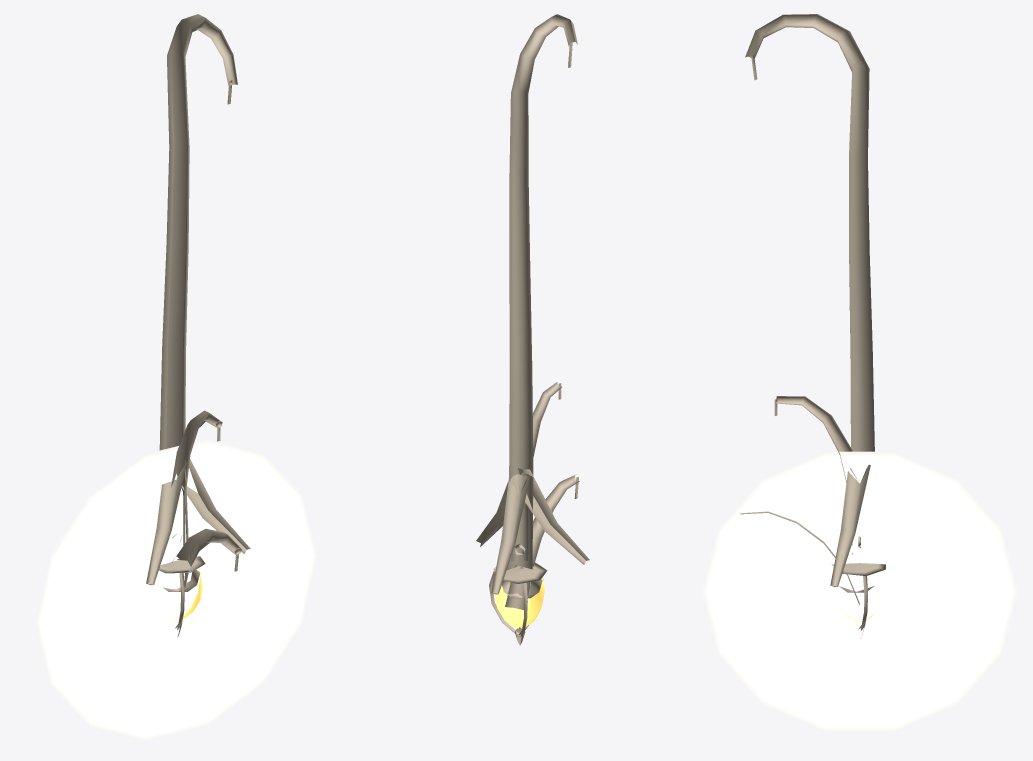
File: hw_lamps.glb
3 views of the same model, side by side, from view 1: azimuth 30°, elevation 25°; view 2: azimuth 150°, elevation 25°; view 3: azimuth 270°, elevation 25° (orthographic). The views are drawn at different scales.
Parts seen in each view (by area): view 1: halo, crook, wall_arm, rail_arm, lamp_wood; view 2: crook, wall_arm, lamp_wood, rail_arm, lamp_resin; view 3: halo, crook, rail_arm, lamp_wood.
Boxes of the visible parts, x1=… form: halo: x1=35, y1=439, x2=317, y2=741; crook: x1=146, y1=14, x2=250, y2=585; wall_arm: x1=163, y1=528, x2=241, y2=591; rail_arm: x1=171, y1=410, x2=222, y2=545; lamp_wood: x1=159, y1=534, x2=205, y2=637; crook: x1=476, y1=14, x2=589, y2=594; wall_arm: x1=502, y1=474, x2=579, y2=609; lamp_wood: x1=489, y1=544, x2=547, y2=645; rail_arm: x1=511, y1=382, x2=561, y2=561; lamp_resin: x1=495, y1=577, x2=544, y2=628; halo: x1=701, y1=451, x2=1018, y2=731; crook: x1=745, y1=14, x2=874, y2=587; rail_arm: x1=774, y1=396, x2=852, y2=554; lamp_wood: x1=831, y1=536, x2=885, y2=637.
Bounding box in the file's own units: 1.9 × 4.74 × 1.9.
